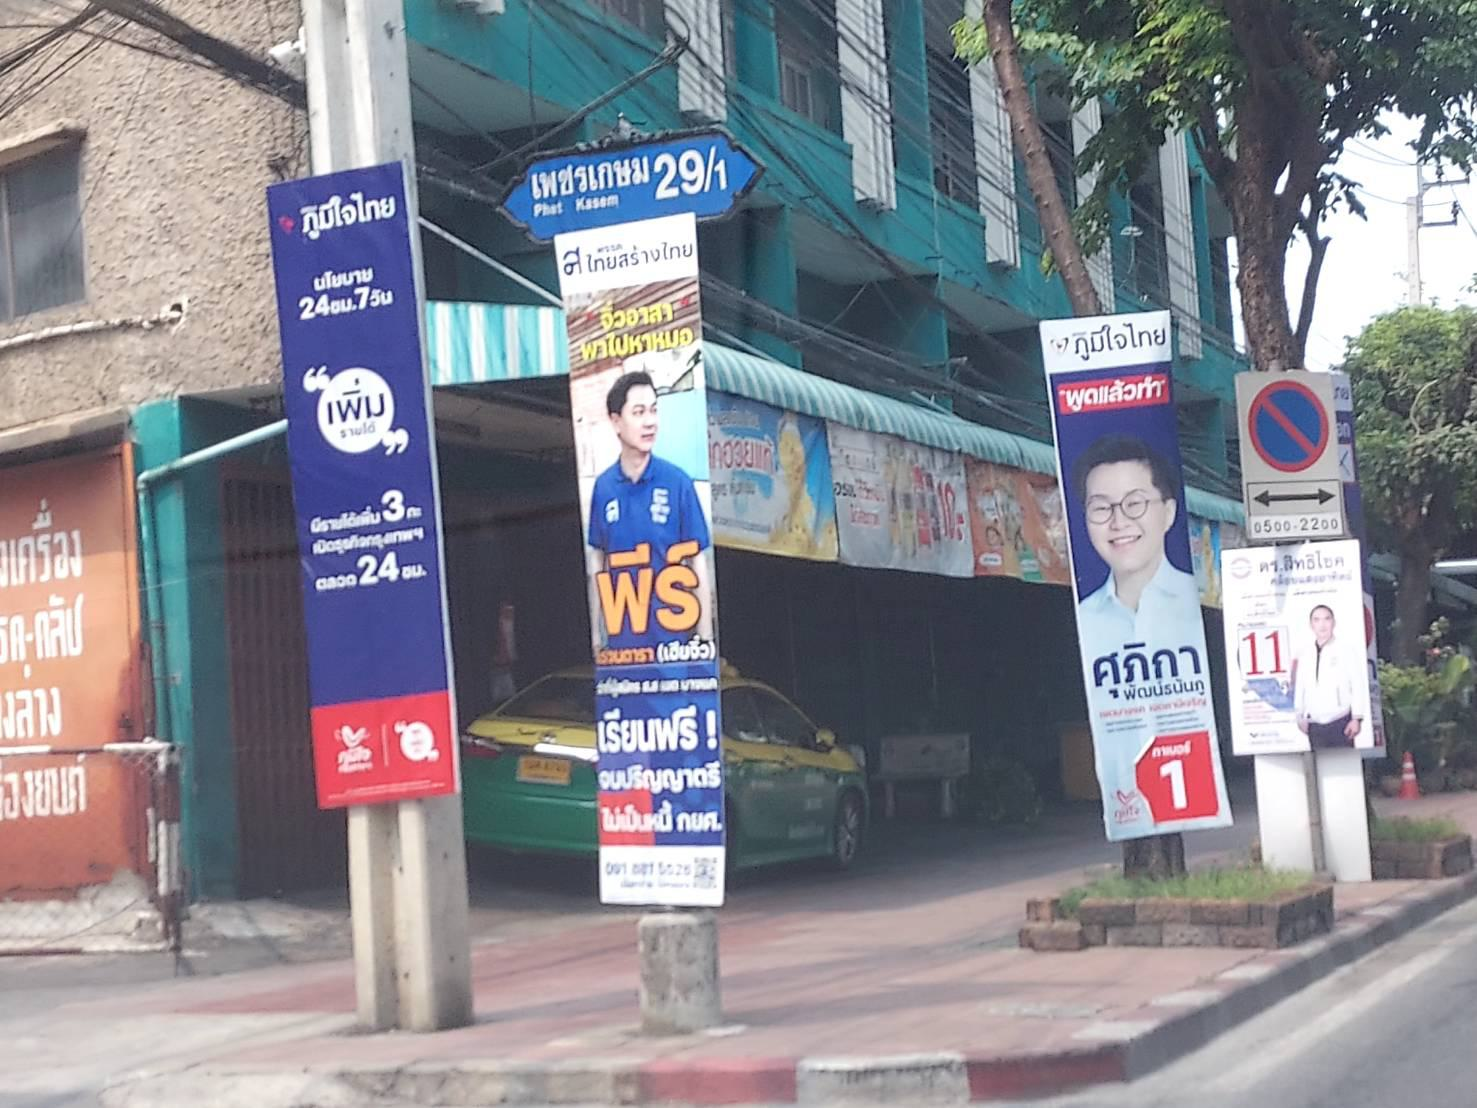Banner: (251, 175, 462, 801), (544, 223, 720, 897), (1031, 325, 1222, 836)
